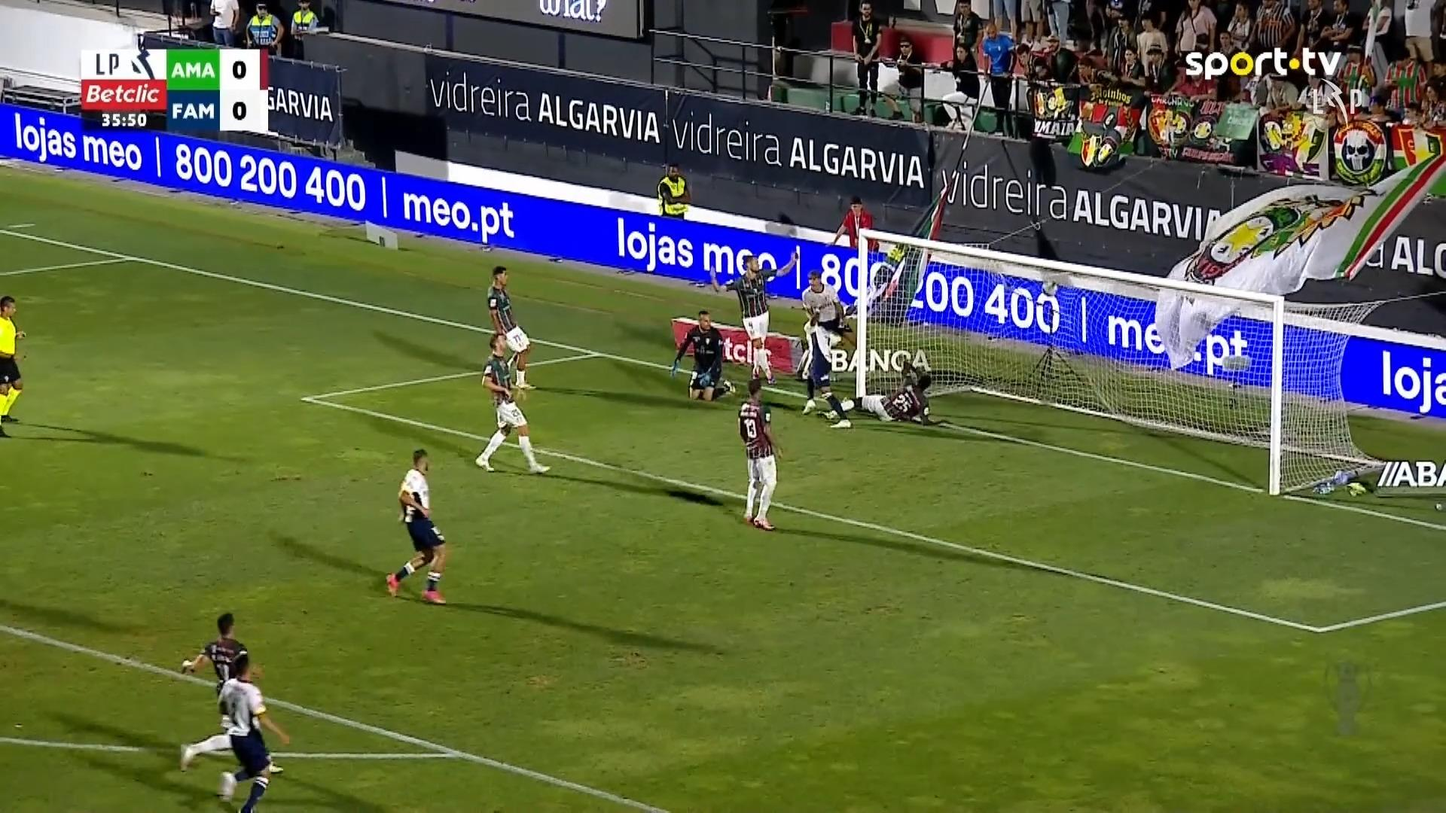goalkeeper: (668, 309, 736, 401)
player: (179, 611, 280, 775), (709, 246, 799, 385), (215, 651, 290, 811), (474, 333, 551, 474), (384, 448, 447, 604), (798, 269, 852, 421), (737, 377, 783, 531), (824, 363, 932, 425), (485, 264, 536, 390), (900, 348, 933, 420)
referee: (0, 294, 26, 437)
